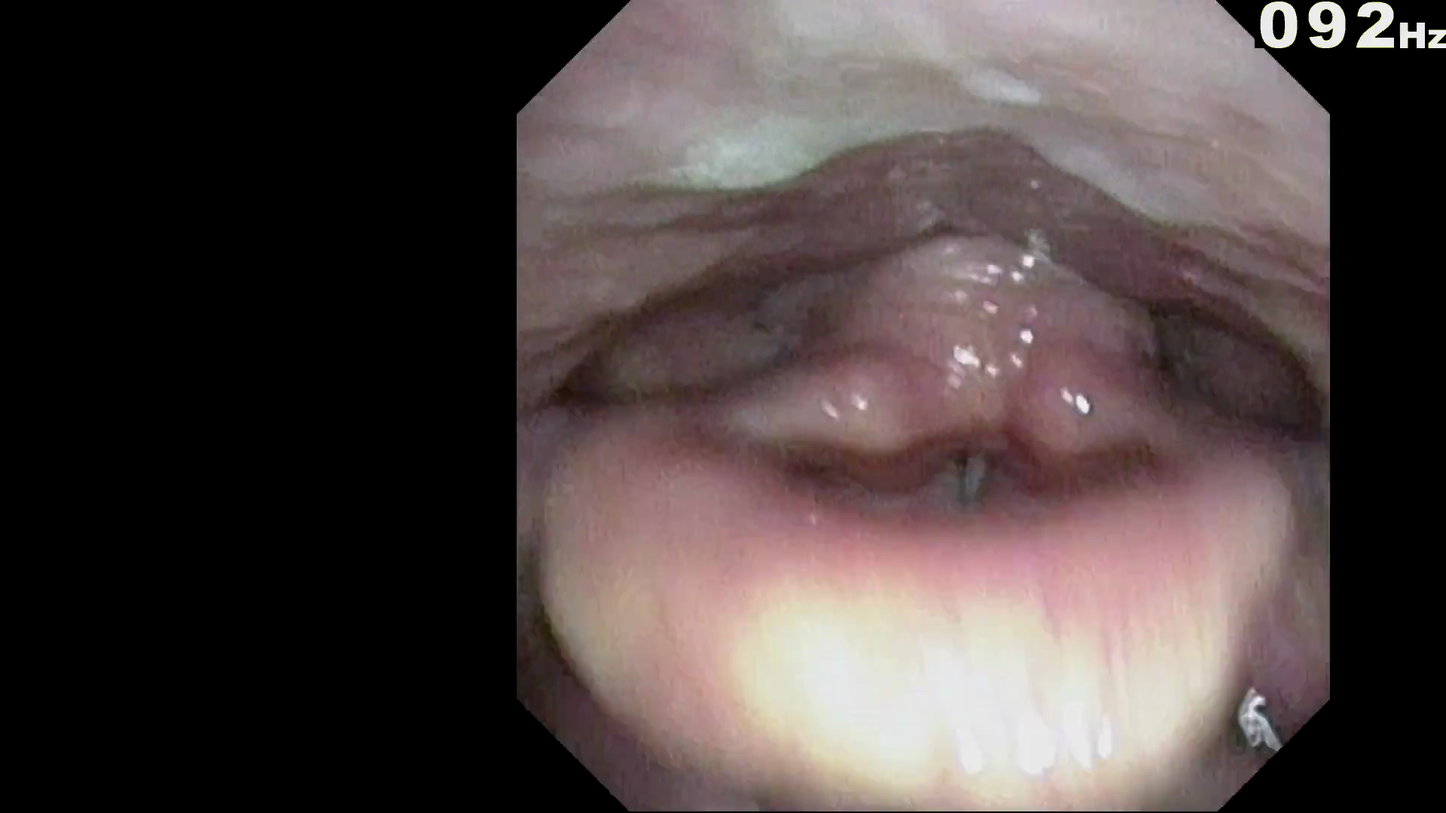epiglottis: (614, 331, 1227, 544)
